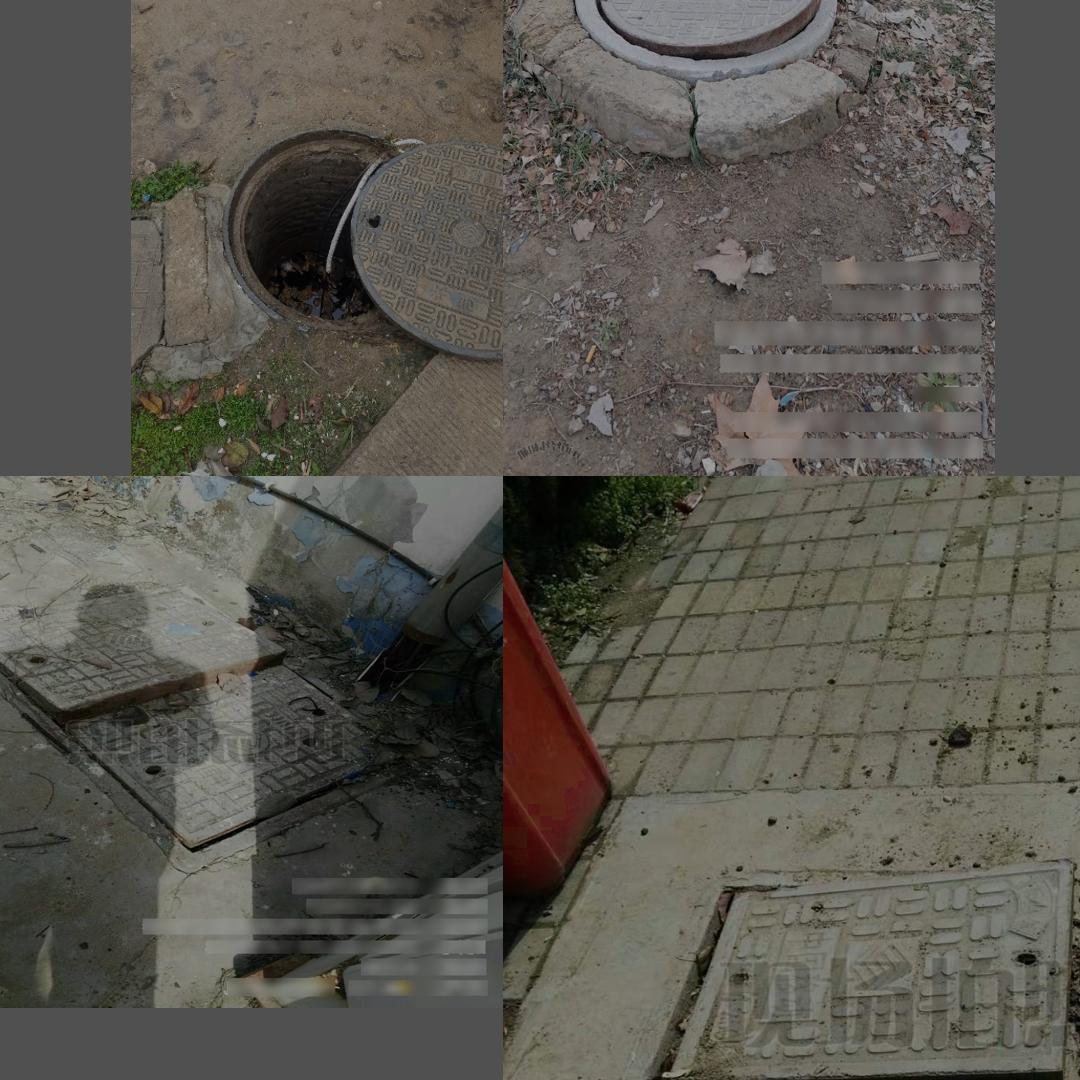uncovered: (0, 583, 410, 871), (539, 860, 1075, 1080), (222, 123, 503, 362), (574, 0, 836, 77)
